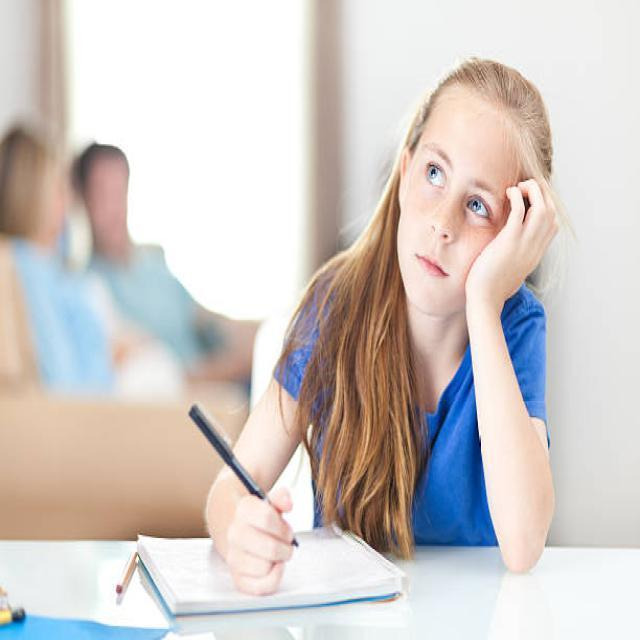Looking away: (400, 88, 508, 308)
